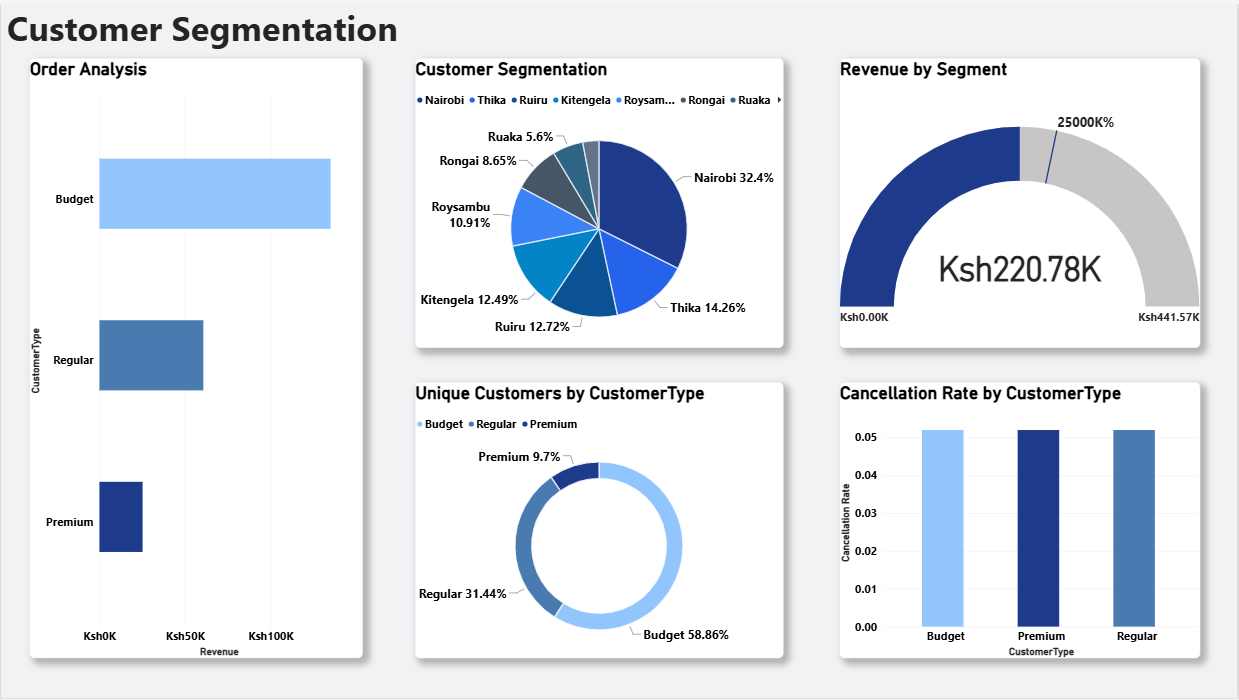

The page's visual inventory and layout, read from the dashboard file:
{"tool":"powerbi","page":{"name":"Customer Segmentation","canvas":[1920,1080],"ordinal":2},"visuals":[{"type":"textbox","box":[9.5,0,665.7,83.5],"z":0},{"type":"barChart","title":"Order Analysis","fields":{"Category":["dim_customers.CustomerType"],"Y":["dim_customers.1. Total Revenue"]},"box":[45.3,83.5,517.7,932.9],"z":1000},{"type":"pieChart","title":"Customer Segmentation","fields":{"Category":["dim_customers.Location"],"Y":["dim_customers.1. Total Revenue"]},"box":[644.2,83.5,572.6,450.9],"z":2000},{"type":"donutChart","fields":{"Category":["dim_customers.CustomerType"],"Y":["dim_customers.Unique Customers"]},"box":[644.2,586.9,572.6,429.5],"z":3000},{"type":"gauge","title":"Revenue by Segment","fields":{"TargetValue":["dim_customers.Revenue Target"],"Y":["dim_customers.1. Total Revenue"]},"box":[1302.7,83.5,560.7,450.9],"z":4000},{"type":"clusteredColumnChart","fields":{"Category":["dim_customers.CustomerType"],"Y":["dim_customers.Cancellation Rate"]},"box":[1302.7,586.9,560.7,429.5],"z":5000}]}

Visuals, with their boxes in screenshot pixels (x1, y1, x2, y2), scaled from the page's 1920x1080 canvas onto the 1239x700 screenshot:
textbox: 6:0:436:54
"Order Analysis" barChart: 29:54:363:659
"Customer Segmentation" pieChart: 416:54:785:346
donutChart - dim_customers.CustomerType x dim_customers.Unique Customers: 416:380:785:659
"Revenue by Segment" gauge: 841:54:1202:346
clusteredColumnChart - dim_customers.CustomerType x dim_customers.Cancellation Rate: 841:380:1202:659
